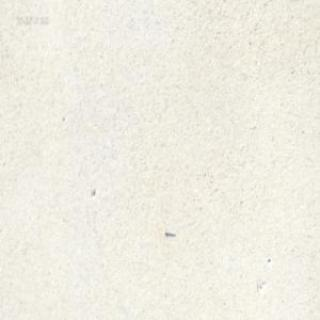Nailtrack_idkeyframe: (164, 229, 175, 238)
